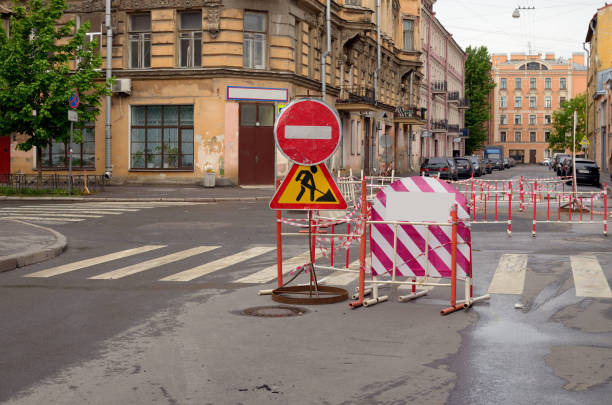Girilmez: (275, 99, 342, 166)
yol_calismasi: (266, 156, 356, 216)
